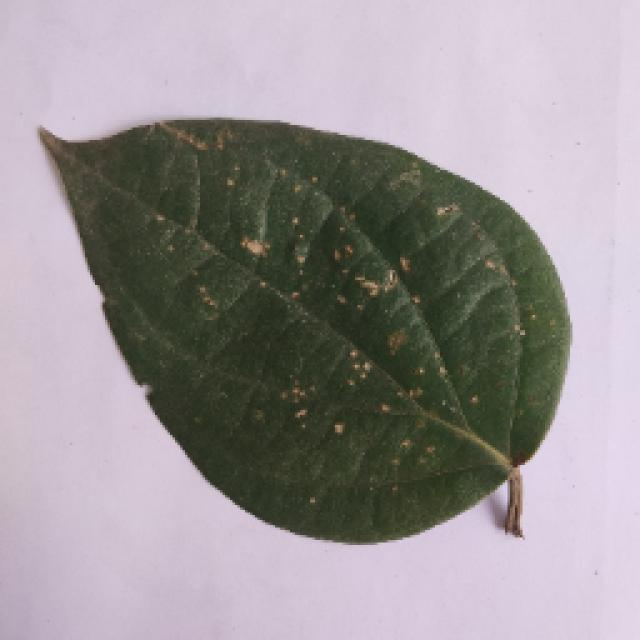pollu-disease: (30, 118, 575, 548)
